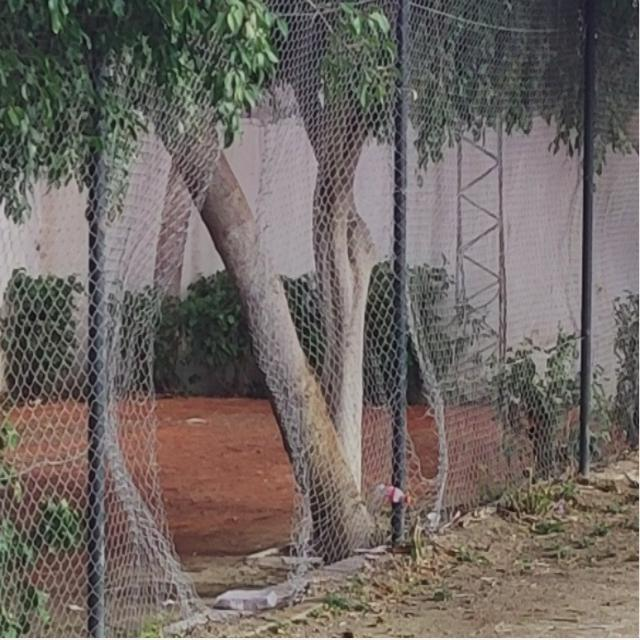fence line: (136, 77, 320, 580), (395, 334, 455, 484)
